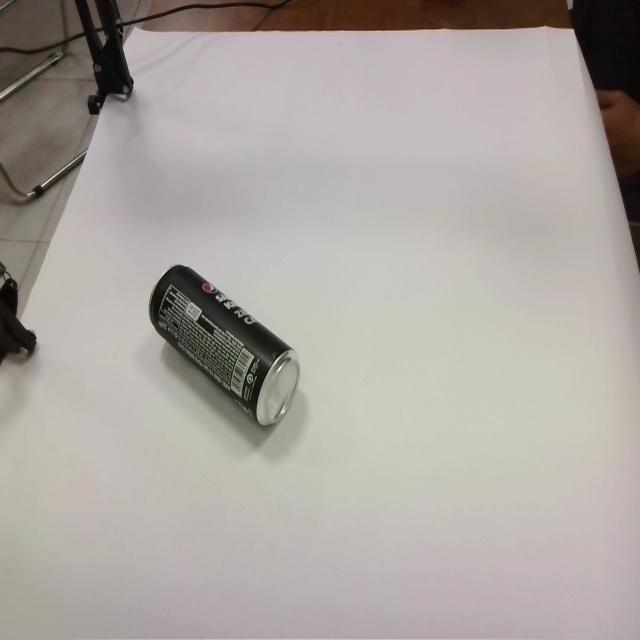debris: (148, 263, 301, 427)
